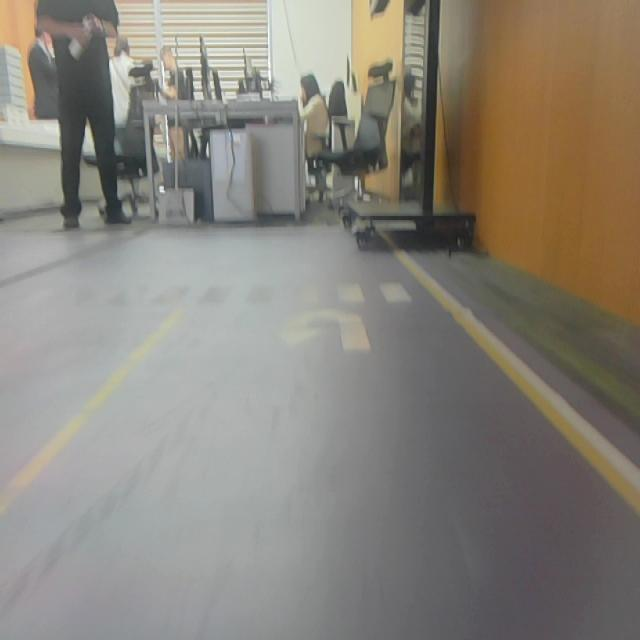left_lane: (0, 292, 192, 518)
right_lane: (389, 240, 639, 514)
